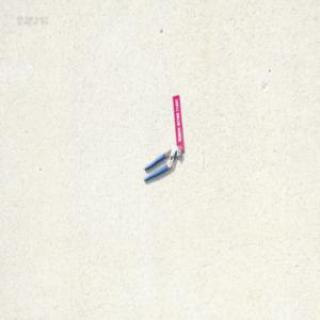LuggageTagtrack_idkeyframe: (171, 93, 184, 151)
Pliertrack_idkeyframe: (142, 143, 181, 181)
